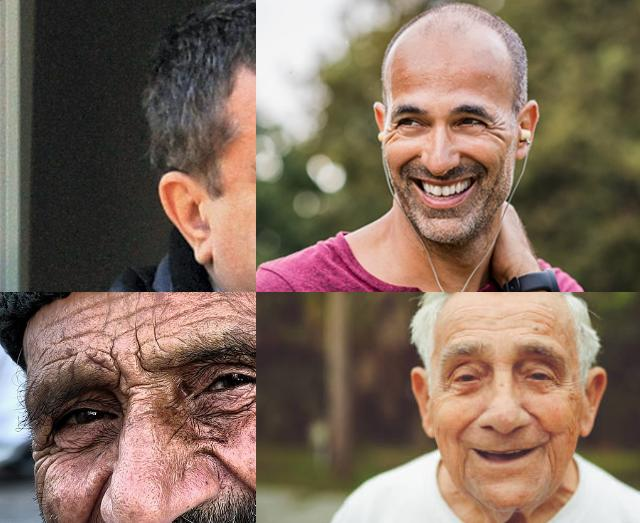bunny_line: (167, 420, 190, 446)
crows_feet: (30, 438, 58, 468), (484, 118, 504, 138), (383, 124, 397, 144), (438, 374, 452, 392)
forehead: (161, 300, 223, 326), (105, 295, 141, 333), (55, 327, 93, 355), (534, 306, 558, 330), (449, 322, 487, 332)
frown_line: (136, 340, 158, 382), (108, 352, 130, 392)
gummy_smile: (207, 450, 256, 502), (77, 483, 103, 523), (460, 150, 492, 170), (524, 406, 546, 430), (452, 412, 480, 430), (396, 152, 418, 170)
sad_smile: (454, 447, 472, 481), (544, 448, 560, 480)
